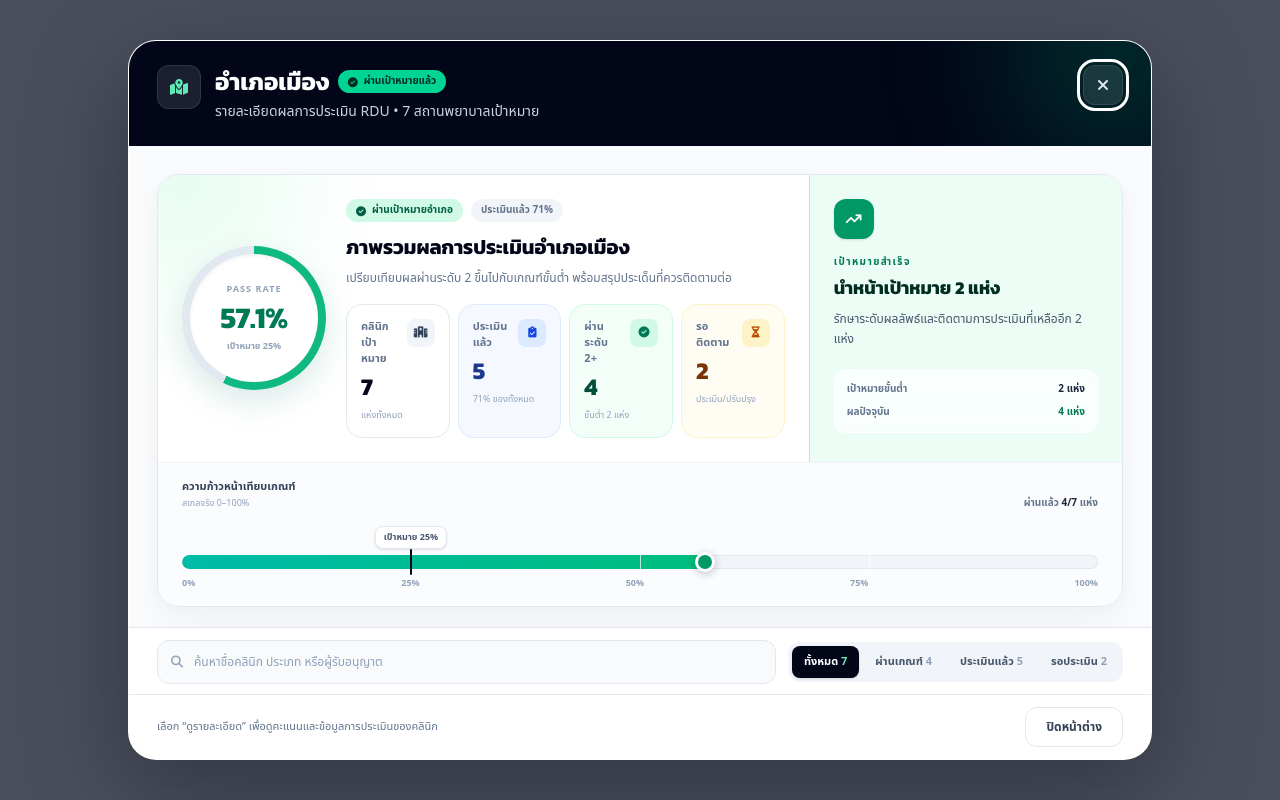
Test: DistrictDetailModal › uses the canonical Clinic schema and searches by licensee
Type "วงศ์ตระกูล" into the search field named "ค้นหาคลินิก".
click(466, 662); type("วงศ์ตระกูล")  # box [157,640,776,684]
(page scrolled)
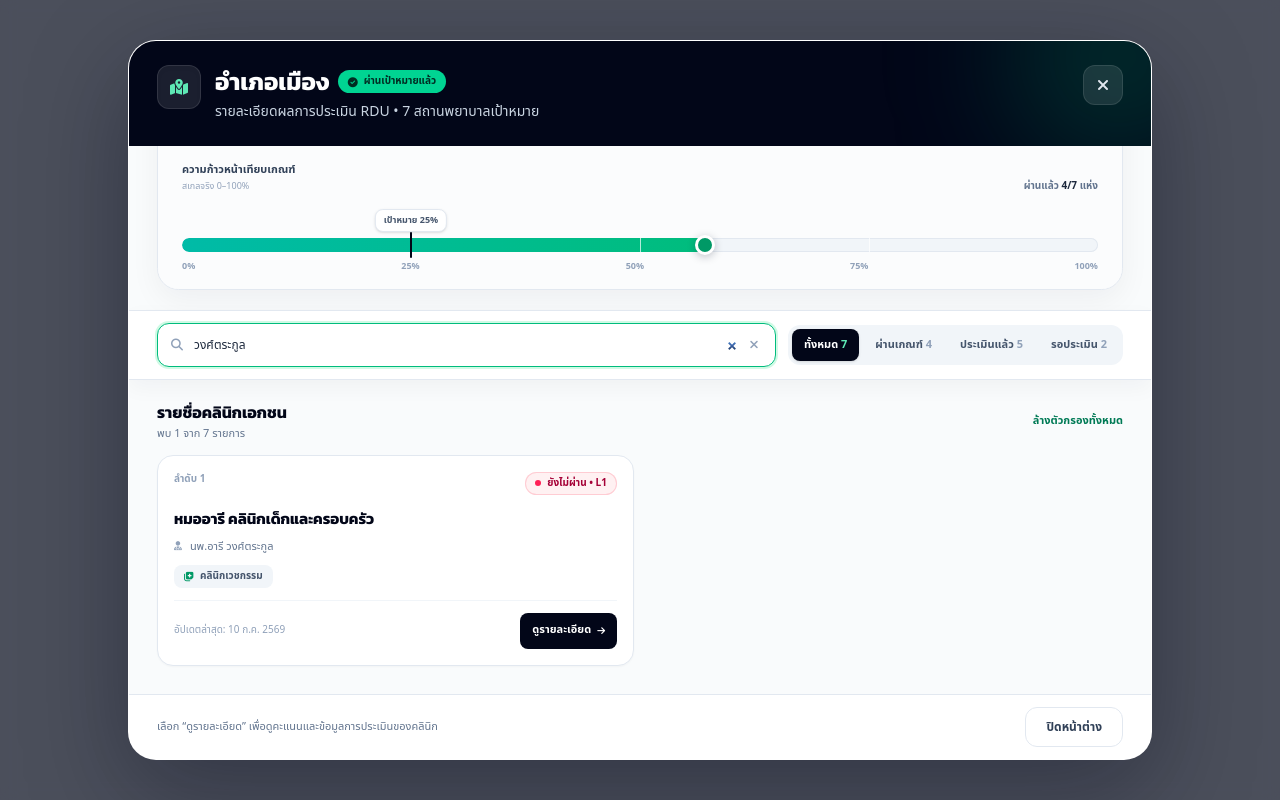
Expected: the text "พบ 1 จาก 7 รายการ" is shown, [157,425,245,442]
Expected: the heading "หมออารี คลินิกเด็กและครอบครัว" is shown, [174,506,374,530]
